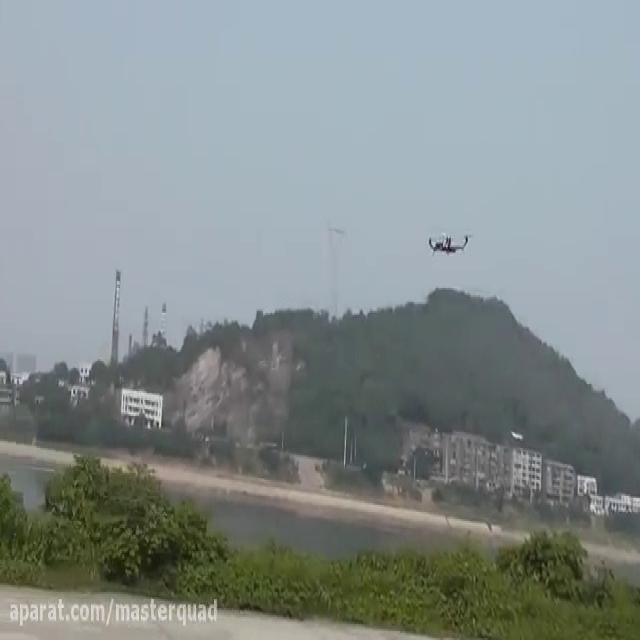drone: (425, 224, 474, 260)
